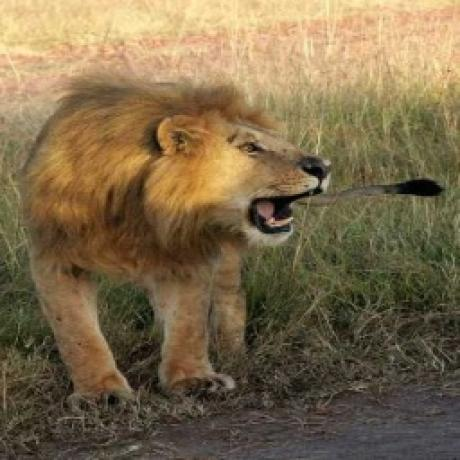Lion: (14, 65, 335, 410)
